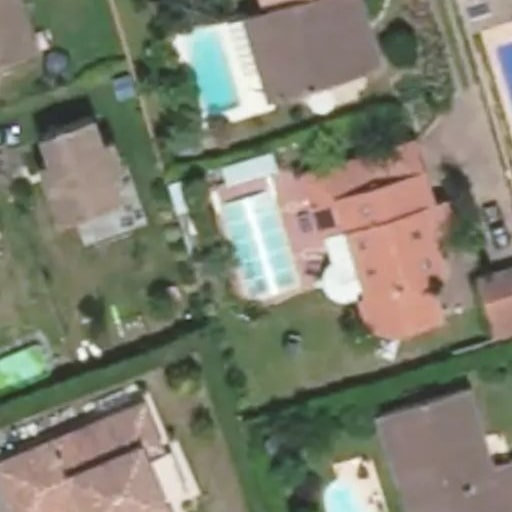pool: (219, 193, 304, 295), (177, 25, 249, 114)
